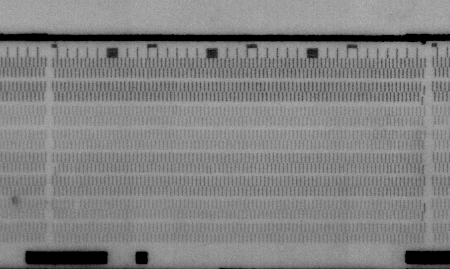Broken hole: (50, 161, 62, 177), (71, 198, 84, 209)
Oblique printing: (418, 82, 430, 105), (419, 199, 430, 214)
